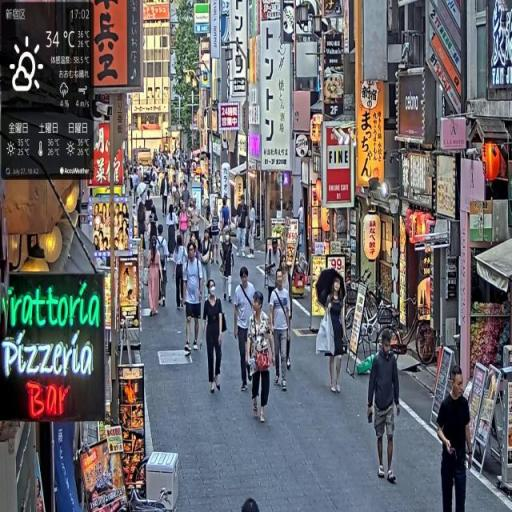person: (367, 330, 404, 485), (436, 365, 475, 512), (318, 270, 348, 396), (248, 294, 276, 427), (202, 279, 228, 396), (235, 267, 259, 393), (270, 268, 293, 393), (184, 236, 207, 356), (220, 231, 236, 311), (174, 233, 190, 308), (236, 195, 249, 258), (167, 202, 179, 263), (161, 173, 171, 216)
